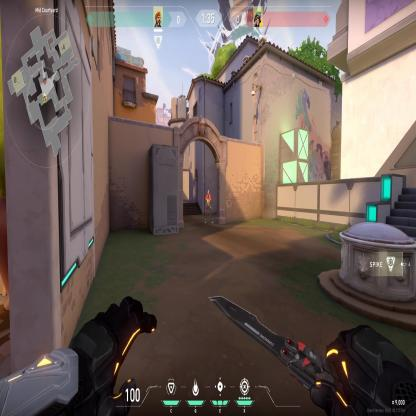enemy: (204, 189, 214, 224)
